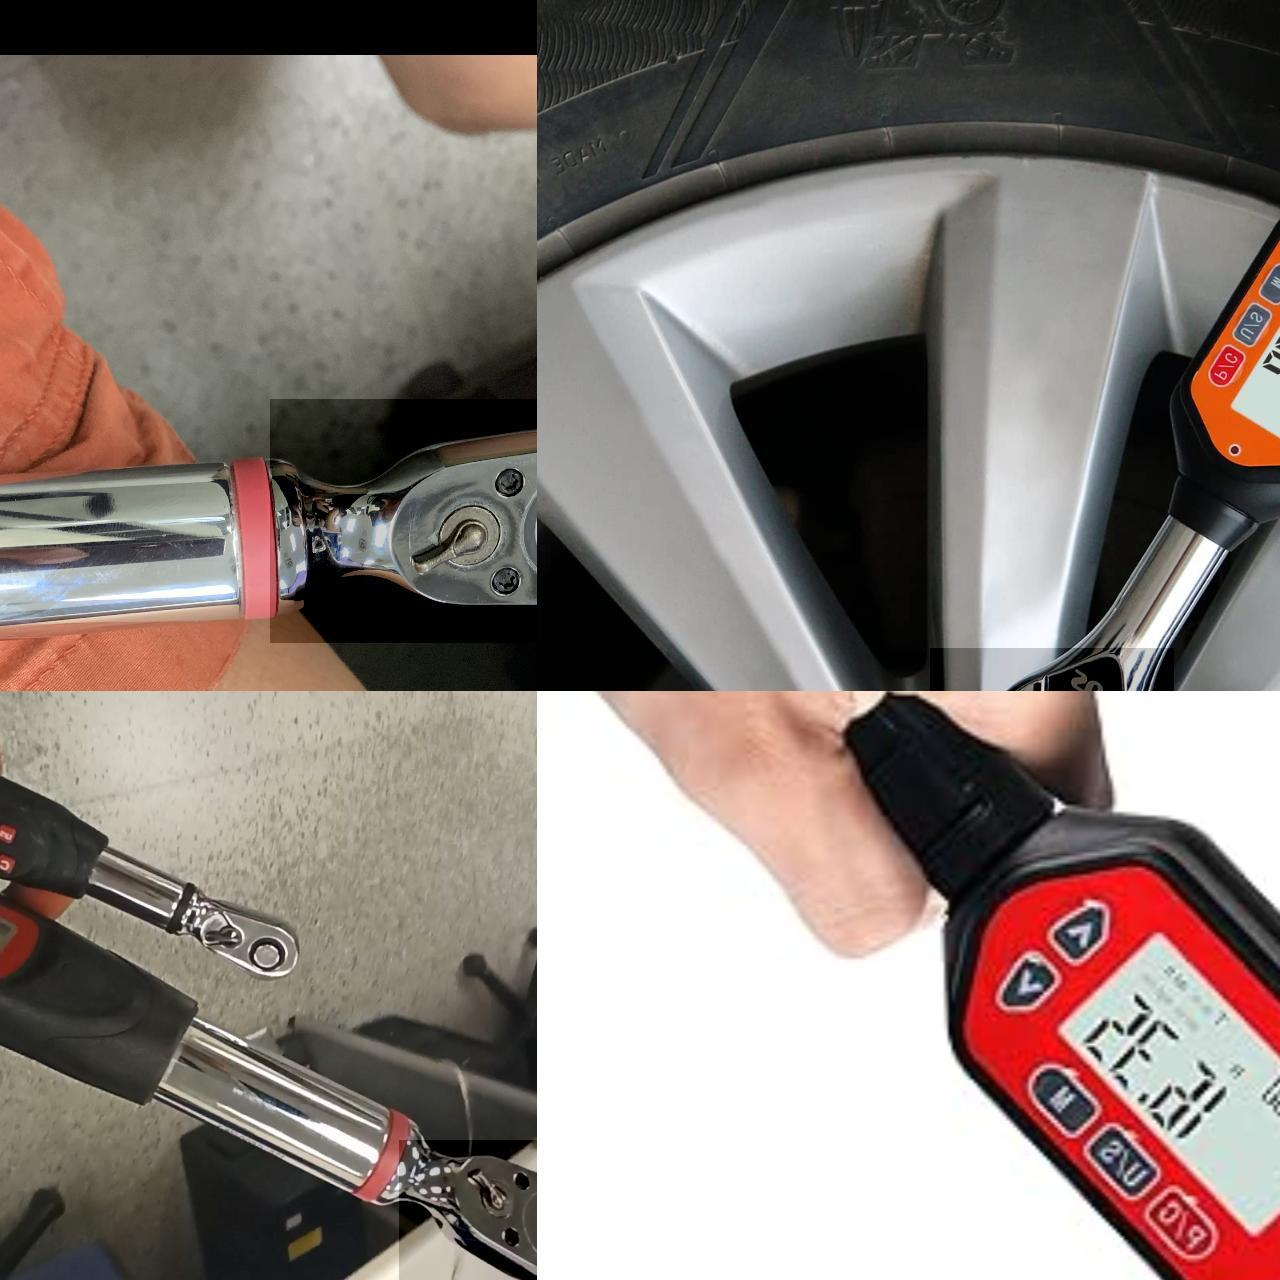Tool: (270, 399, 537, 642), (399, 1139, 537, 1280), (186, 892, 300, 979)
